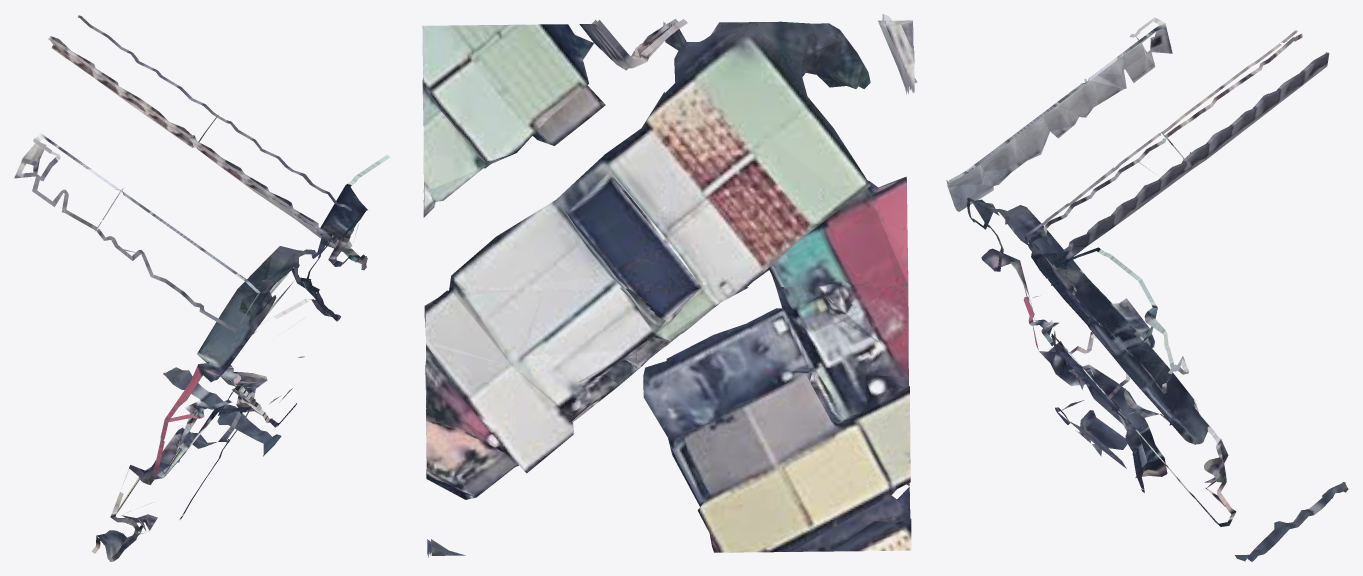
3 renders of one model, left to right at view 1: azimuth 30°, elevation 25°; view 2: azimuth 150°, elevation 25°; view 3: azimuth 270°, elevation 25°, orthographic. The views are drawn at different scales.
Size of the model in its own units: 42.86 by 50.58 by 41.78.
2 materials, 2 textured.
